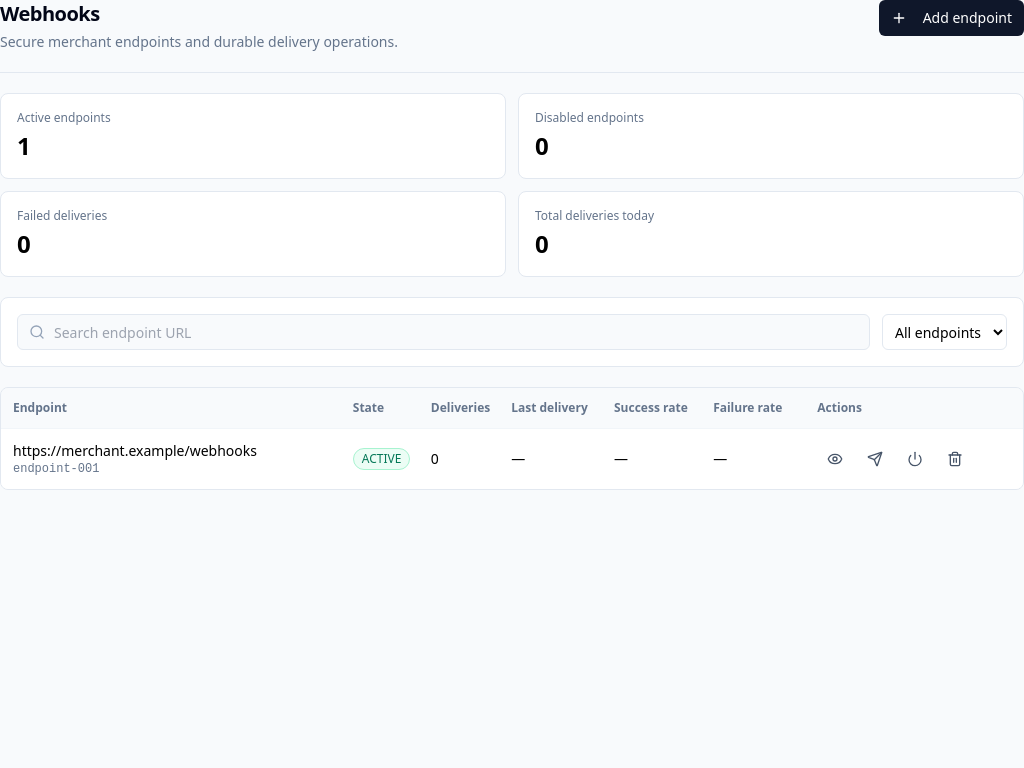
WebhooksManager removal › removes an endpoint after a safe hard-delete result
Expected: the text "https://merchant.example/webhooks" is shown, [13,441,257,460]
Click the button named "Remove https://merchant.example/webhooks": (955, 459) [937,443,973,475]
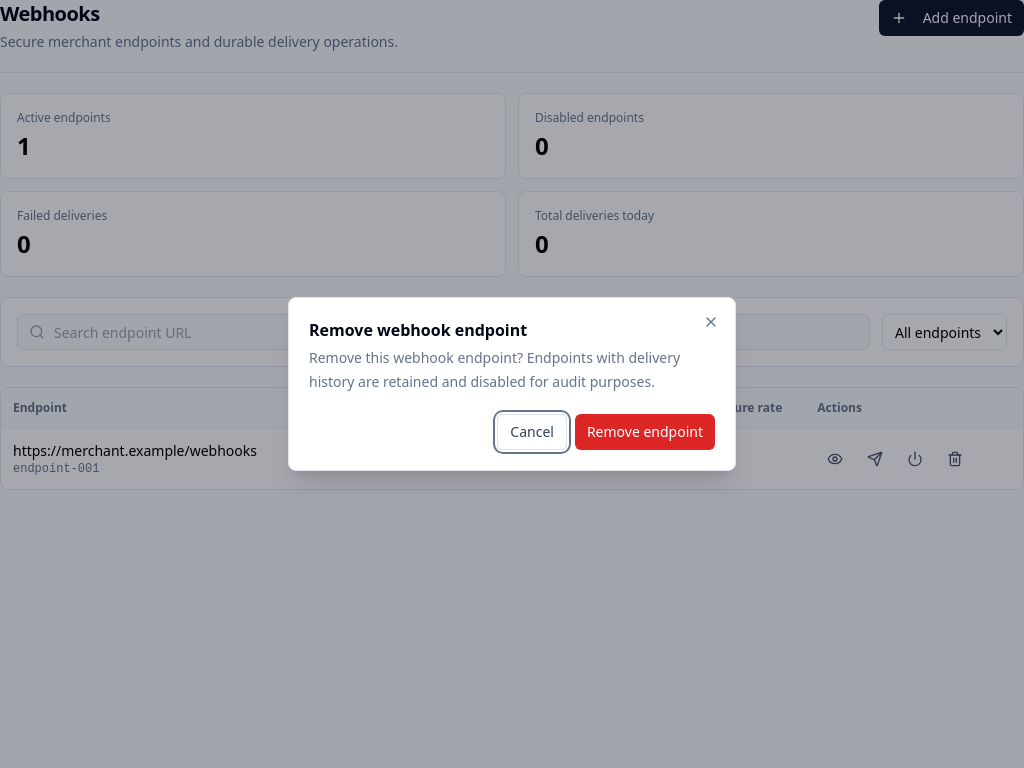
Click the button "Remove endpoint": (645, 432) [575,414,715,450]
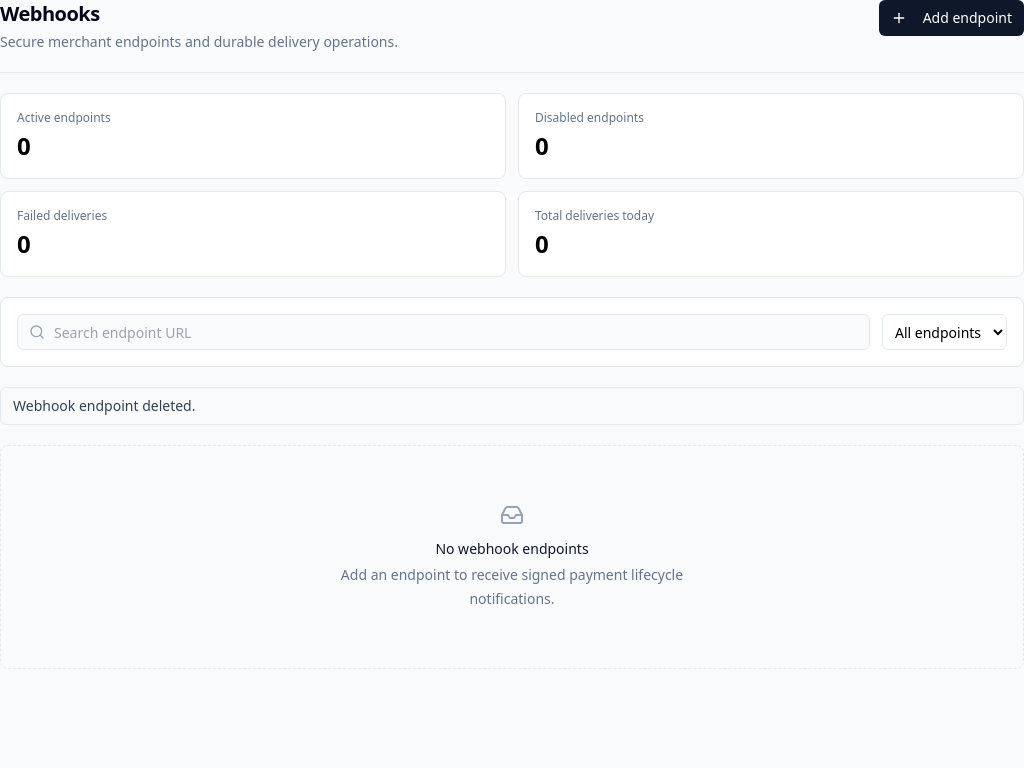
Expected: the text "Webhook endpoint deleted." is shown, [0,387,1023,425]
Expected: the text "https://merchant.example/webhooks" is gone
